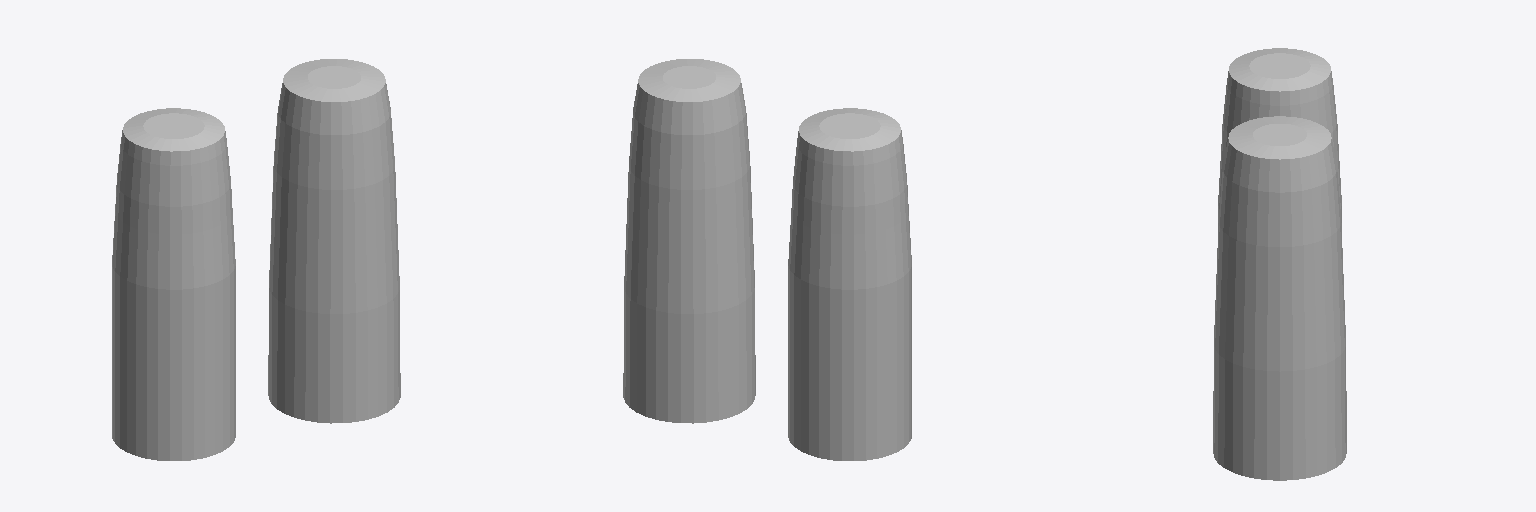
The model's file is Axe and Lynx DO Spray .obj.
The picture shows the model from 3 angles: view 1: azimuth 30°, elevation 25°; view 2: azimuth 150°, elevation 25°; view 3: azimuth 270°, elevation 25°; orthographic projection.
Parts seen in each view (by area): view 1: Circle.006, Circle.005; view 2: Circle.006, Circle.005; view 3: Circle.006, Circle.005.
Boxes of the visible parts, x1=… form: Circle.006: x1=268, y1=59, x2=400, y2=423; Circle.005: x1=112, y1=108, x2=235, y2=460; Circle.006: x1=623, y1=59, x2=755, y2=423; Circle.005: x1=788, y1=108, x2=911, y2=460; Circle.006: x1=1213, y1=116, x2=1346, y2=480; Circle.005: x1=1218, y1=48, x2=1341, y2=222.
Size of the model in its own units: 6.82 by 7.65 by 2.91.